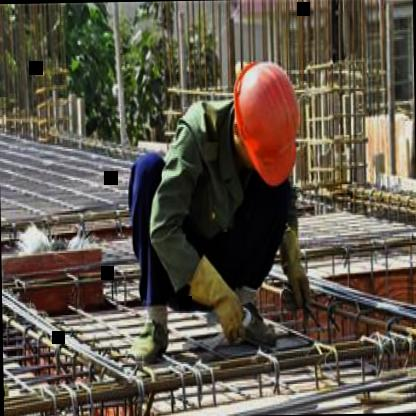helmet: (223, 46, 307, 193)
